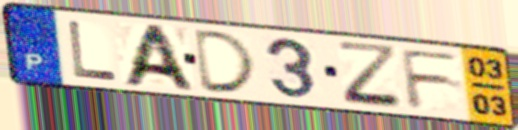3: (260, 36, 321, 103)
A: (117, 23, 200, 94)
D: (192, 27, 261, 96)
F: (397, 47, 465, 111)
L: (65, 18, 120, 84)
Z: (334, 39, 407, 113)
